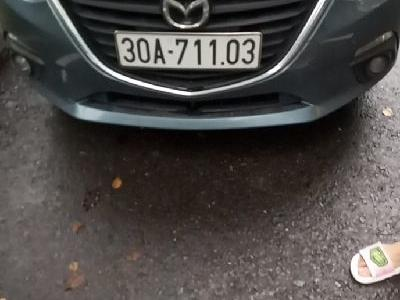lisence: (114, 29, 262, 70)
